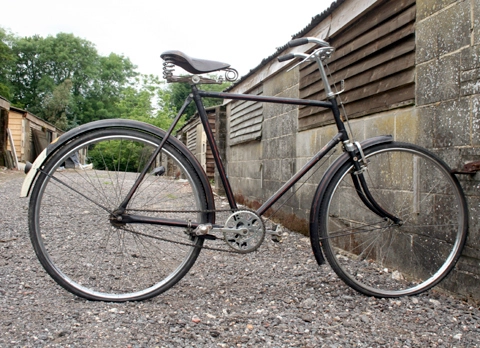cycle: (20, 37, 472, 310)
